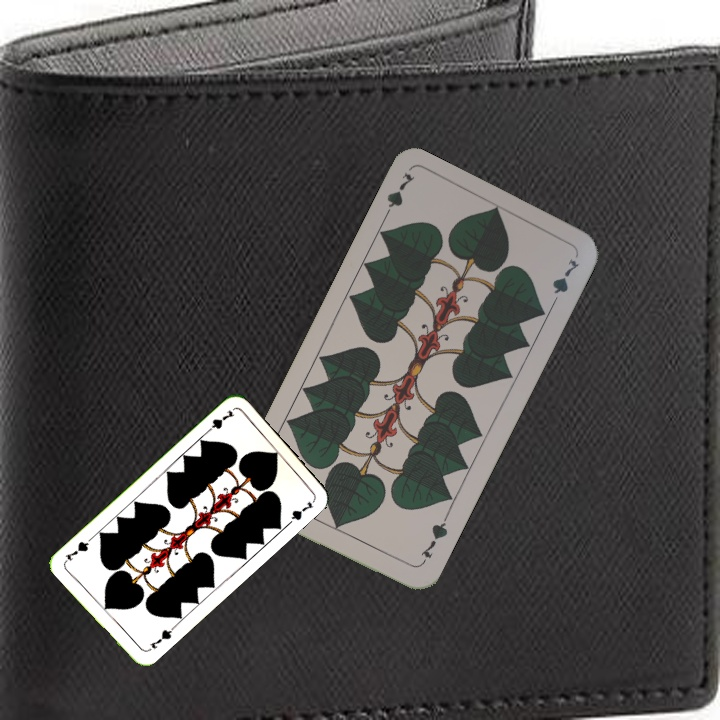G7: (378, 169, 418, 224), (416, 513, 451, 568), (201, 405, 237, 437), (146, 623, 177, 651)
